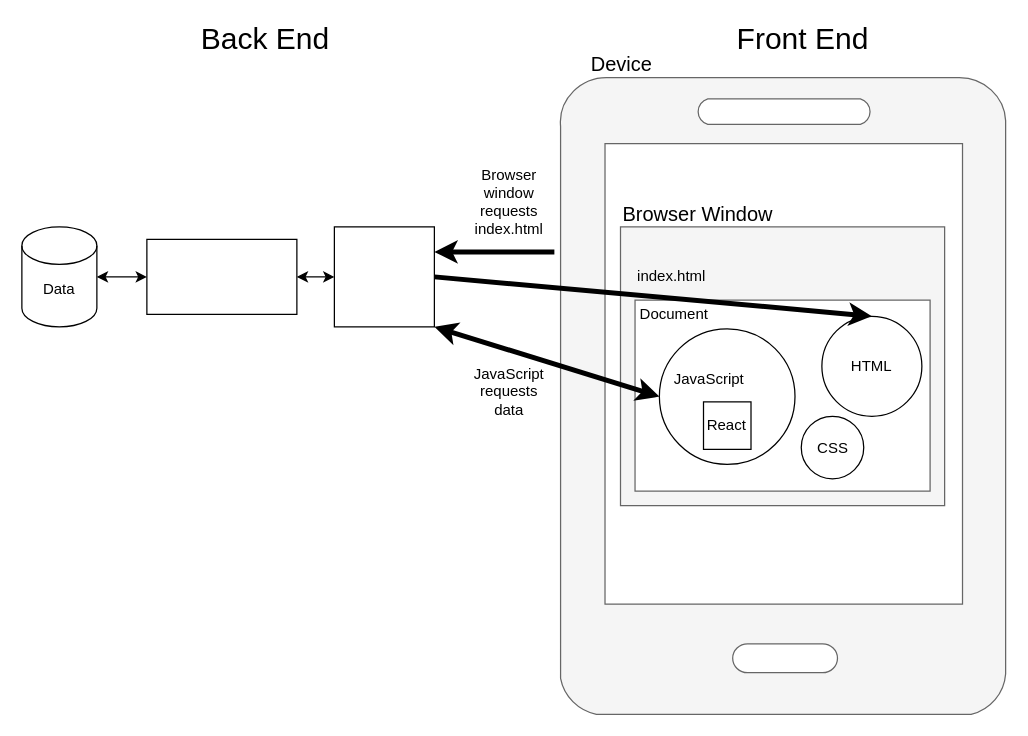
Some shapes in this 1028 by 736 pixel diagram are drawn without their labels. Each missing label, with the box of its shape:
HTTP Server: (333, 226, 434, 327)
Node.js: (146, 238, 297, 314)
